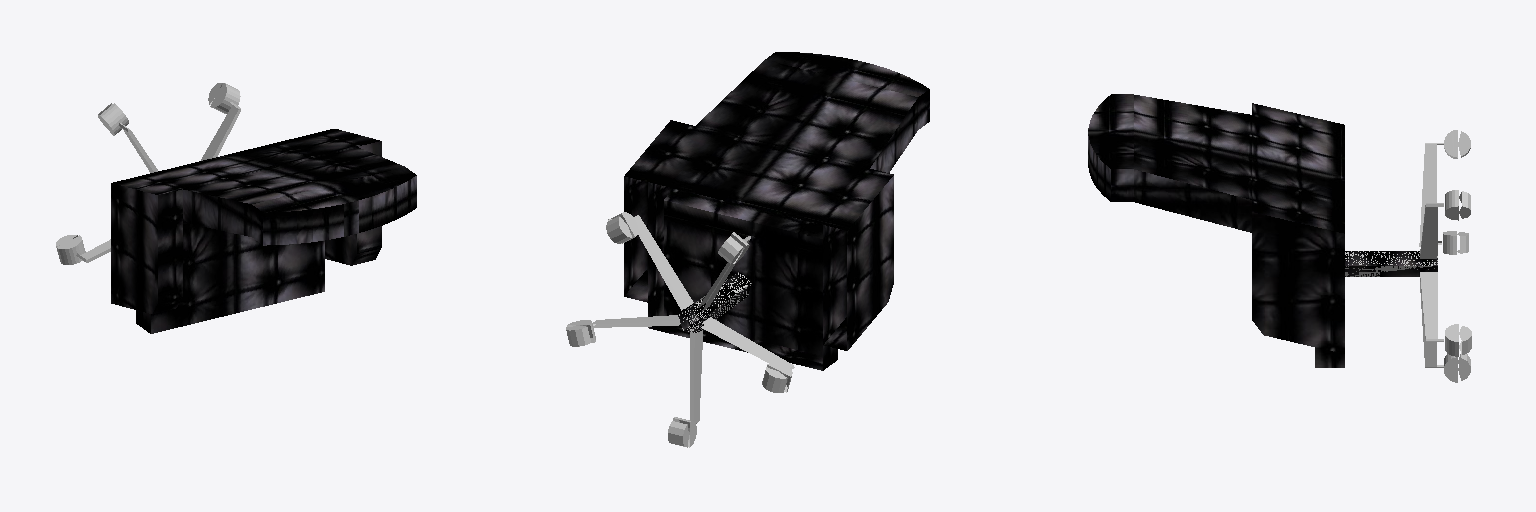
3 views of the same model, side by side, from view 1: azimuth 30°, elevation 25°; view 2: azimuth 150°, elevation 25°; view 3: azimuth 270°, elevation 25° (orthographic).
Size of the model in its own units: 0.6413 by 0.6777 by 0.9489.
Materials: 2 (1 with a texture image).